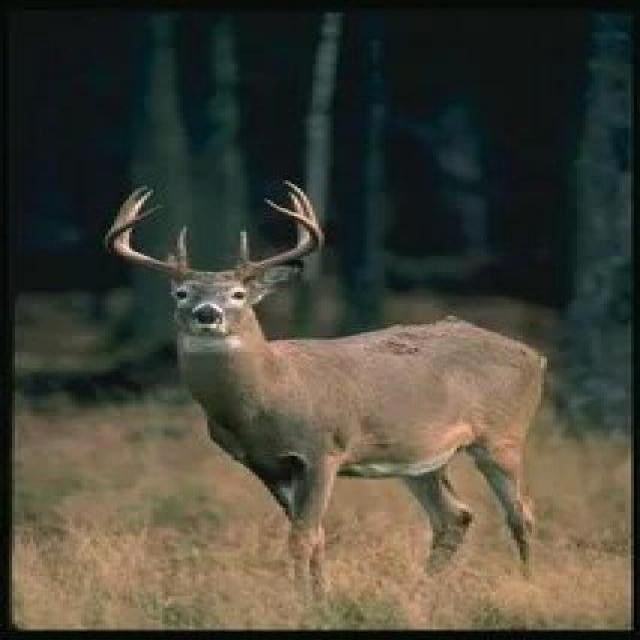deer: (54, 176, 640, 564)
